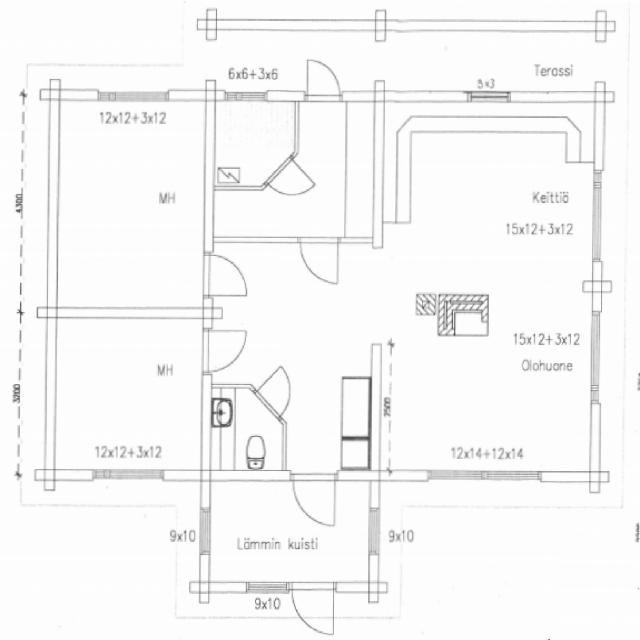door: (265, 157, 314, 210), (255, 366, 303, 418), (292, 582, 334, 637), (293, 471, 335, 524), (204, 331, 247, 371), (205, 256, 248, 296), (300, 238, 337, 282), (308, 55, 340, 99)
